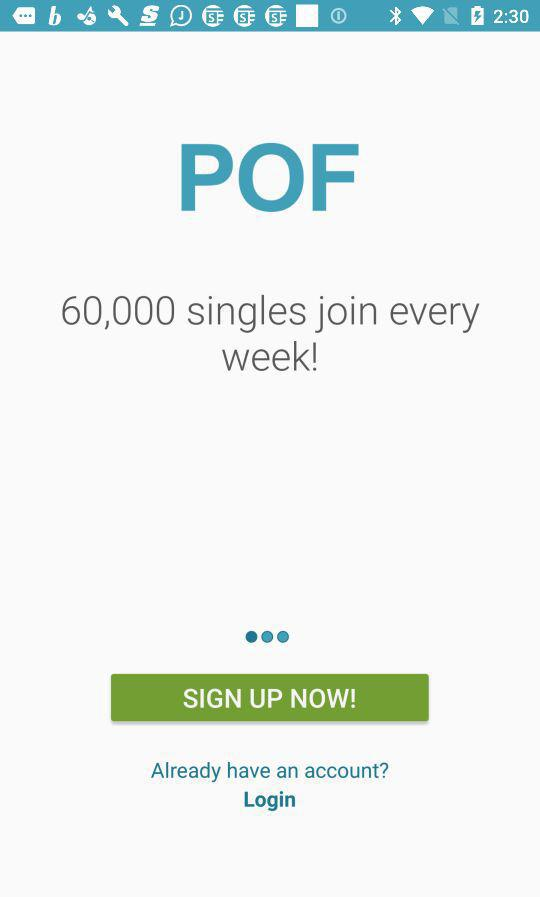PageIndicator: (245, 630, 290, 644)
Text: (62, 295, 480, 373), (181, 143, 360, 214), (151, 761, 389, 783), (244, 790, 296, 812)
TextButton: (112, 673, 429, 722)
UpperTaskBar: (1, 1, 540, 33)
